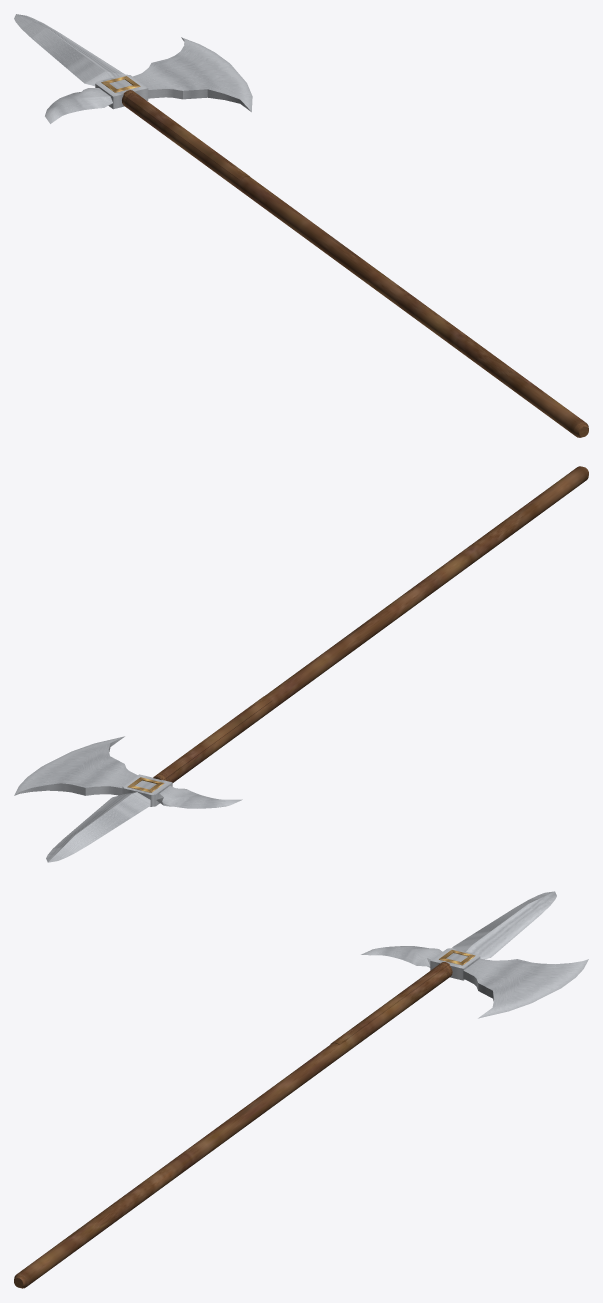
File: halberd.FBX
3 renders of one model, top to bottom at view 1: azimuth 30°, elevation 25°; view 2: azimuth 150°, elevation 25°; view 3: azimuth 330°, elevation 25°, orthographic. The views are drawn at different scales.
Visible parts, largest first — view 1: Cylinder001, Box007, Box006, Box004, Box008; view 2: Cylinder001, Box007, Box006, Box004, Box008; view 3: Cylinder001, Box007, Box006, Box004, Box008.
Part boxes in pixels (left/top/right/bottom): Cylinder001: left=122, top=90, right=588, bottom=437; Box007: left=133, top=37, right=252, bottom=111; Box006: left=14, top=14, right=124, bottom=86; Box004: left=45, top=88, right=112, bottom=123; Box008: left=95, top=74, right=148, bottom=109; Cylinder001: left=153, top=466, right=588, bottom=782; Box007: left=14, top=736, right=137, bottom=795; Box006: left=46, top=792, right=150, bottom=862; Box004: left=156, top=786, right=242, bottom=808; Box008: left=122, top=774, right=172, bottom=806; Cylinder001: left=14, top=962, right=452, bottom=1288; Box007: left=463, top=958, right=588, bottom=1018; Box006: left=452, top=891, right=556, bottom=959; Box004: left=361, top=946, right=442, bottom=967; Box008: left=430, top=948, right=480, bottom=980.
Bounding box in the file's own units: 20.23 × 1.58 × 101.
